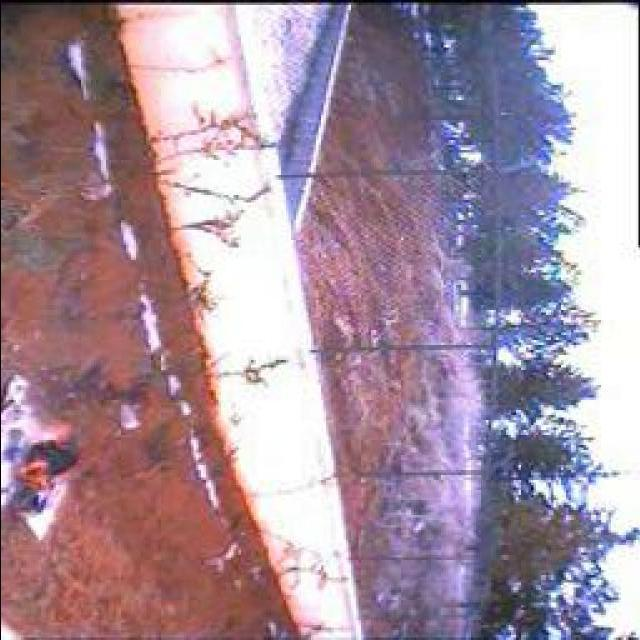Fire: (1, 423, 76, 508)
